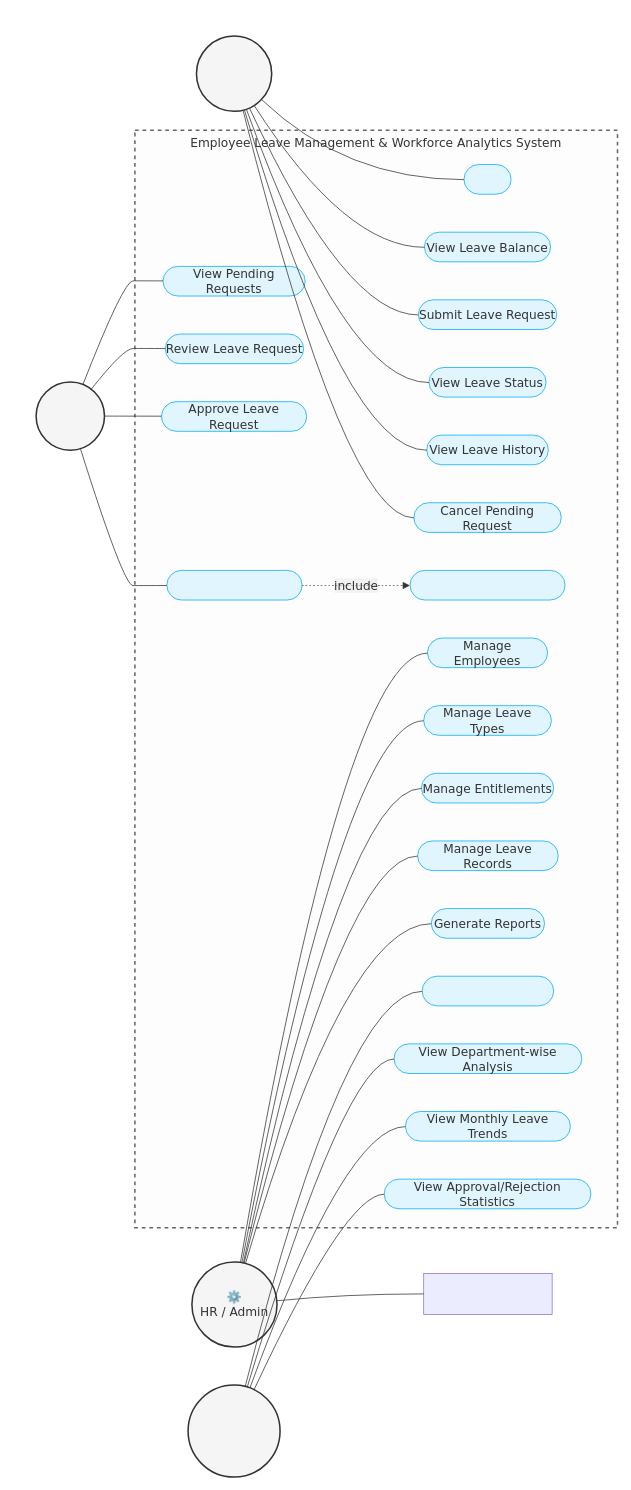
Image size: 631x1490. Some labels were removed from this diagram. The shapes that lost their labels are listed below. From the top down, each one's centre as x and y in pixels, then its label:
(x=233, y=73): 👤 Employee
(x=487, y=179): Login
(x=70, y=416): 👥 Manager
(x=234, y=585): Reject Leave Request
(x=487, y=585): Provide Rejection Reason
(x=487, y=990): View Leave Analytics
(x=487, y=1293): UC_MgrRecords
(x=233, y=1430): 📊 Management
